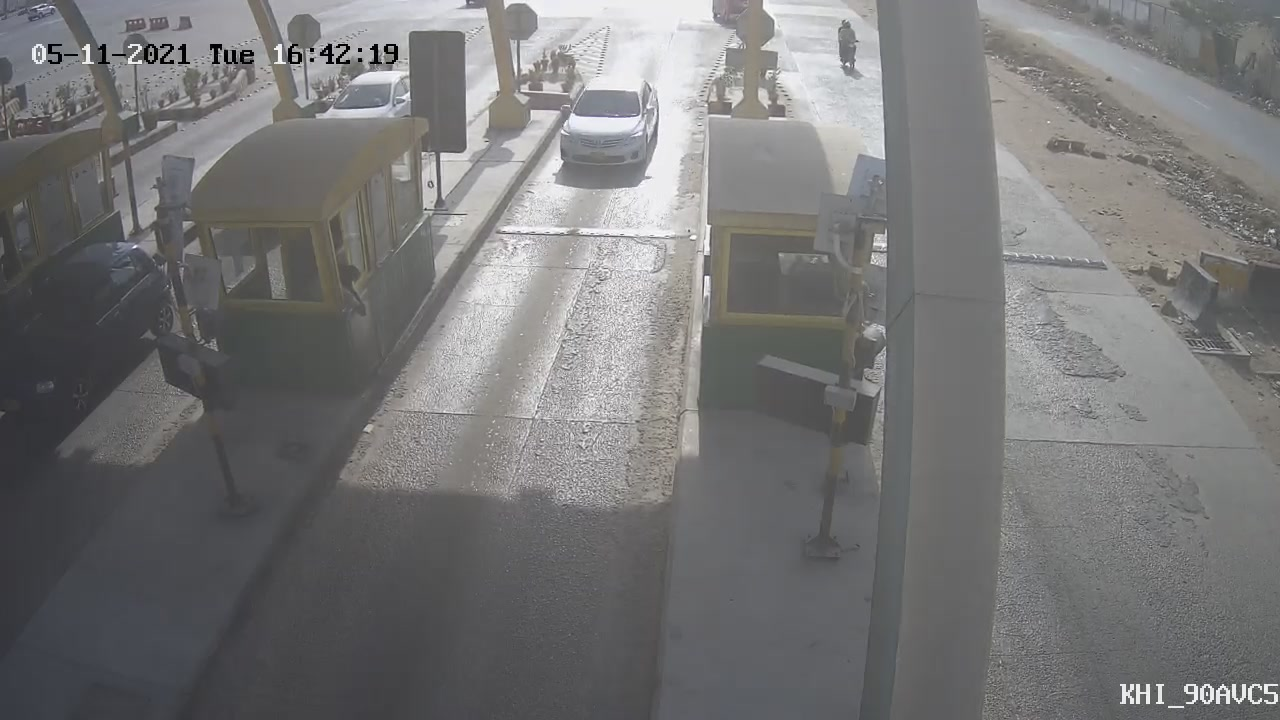F1: (539, 60, 673, 188)
